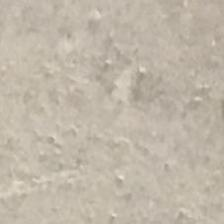Non_Crack: (17, 21, 208, 187)
